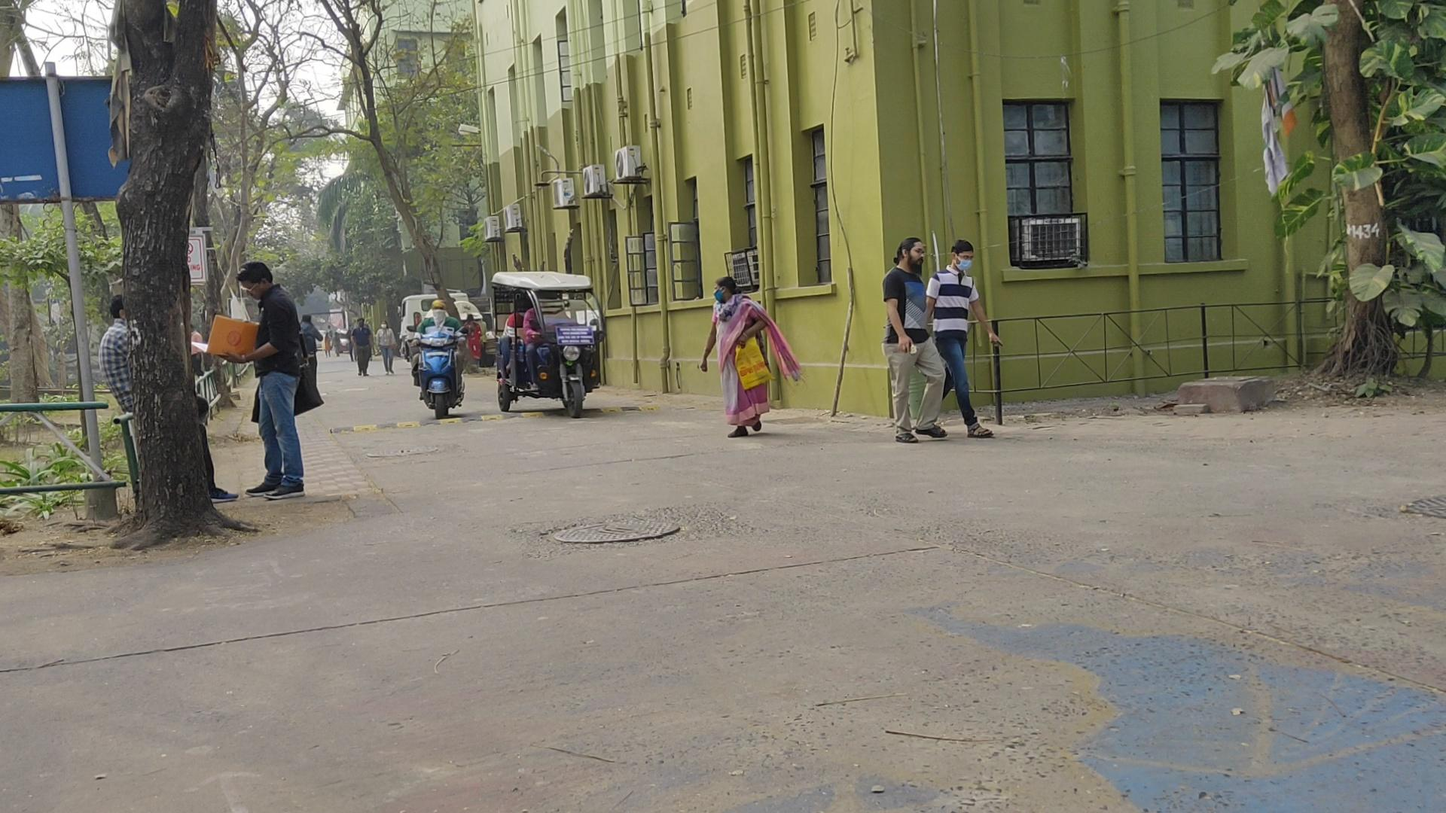Auto: (492, 269, 603, 422)
bike: (407, 298, 470, 420)
